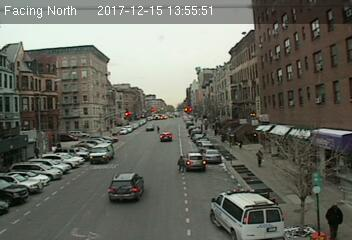car: (107, 173, 145, 201), (184, 152, 207, 173), (203, 149, 222, 165), (159, 131, 172, 141)
pedestrian: (326, 202, 344, 238), (176, 155, 186, 174), (256, 149, 264, 165)
police: (207, 187, 289, 240)
truck: (89, 143, 113, 162)
